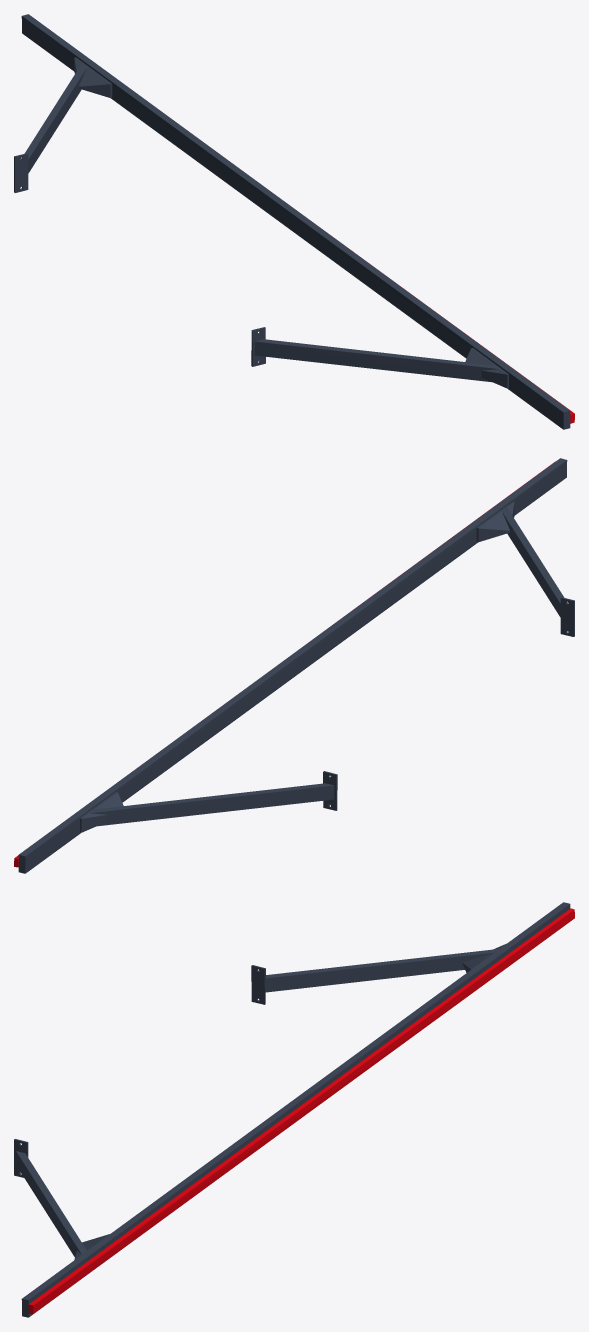
Rendered from front_bumper.dae.
The picture shows the model from 3 angles, top to bottom: view 1: azimuth 30°, elevation 25°; view 2: azimuth 150°, elevation 25°; view 3: azimuth 330°, elevation 25°; orthographic projection.
Visible parts, largest first — view 1: front_bumper_link_004; view 2: front_bumper_link_004; view 3: front_bumper_link_004.
Part boxes in pixels (x1=…): front_bumper_link_004: x1=14, y1=14, x2=574, y2=429; front_bumper_link_004: x1=14, y1=458, x2=574, y2=873; front_bumper_link_004: x1=14, y1=902, x2=574, y2=1317.
Size of the model in its own units: 0.4862 by 2.67 by 0.0982.
